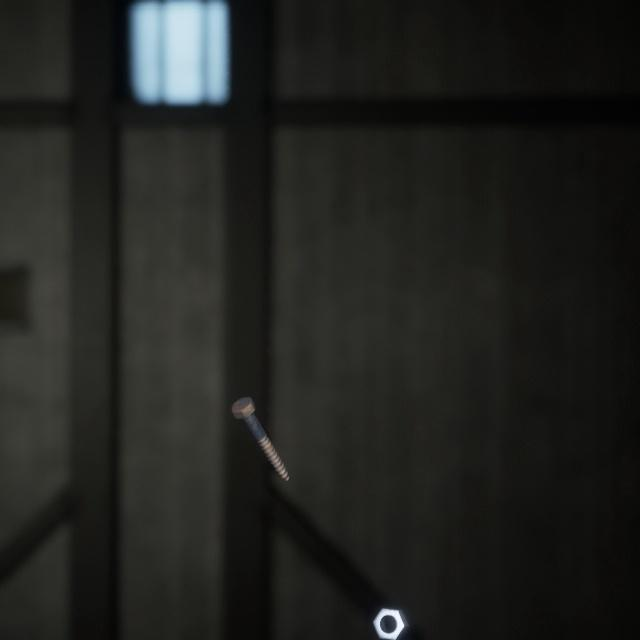bolt: (227, 371, 293, 465)
nut: (368, 580, 413, 621)
